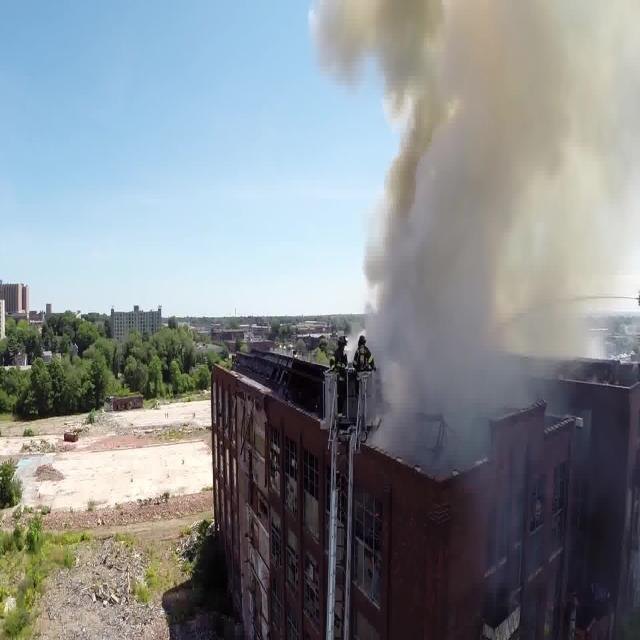Smoke: (307, 13, 636, 397)
